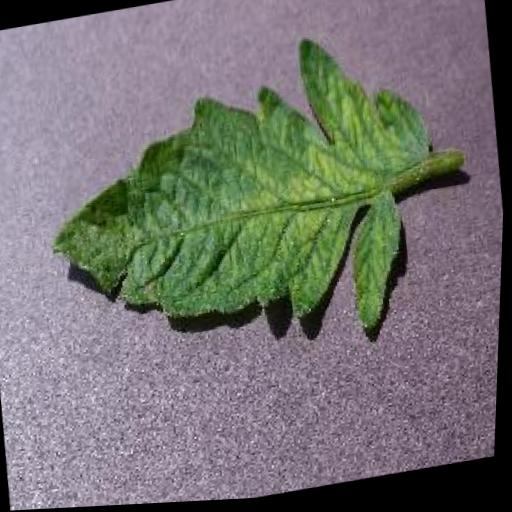Mosaic Virus: (26, 16, 462, 383)
